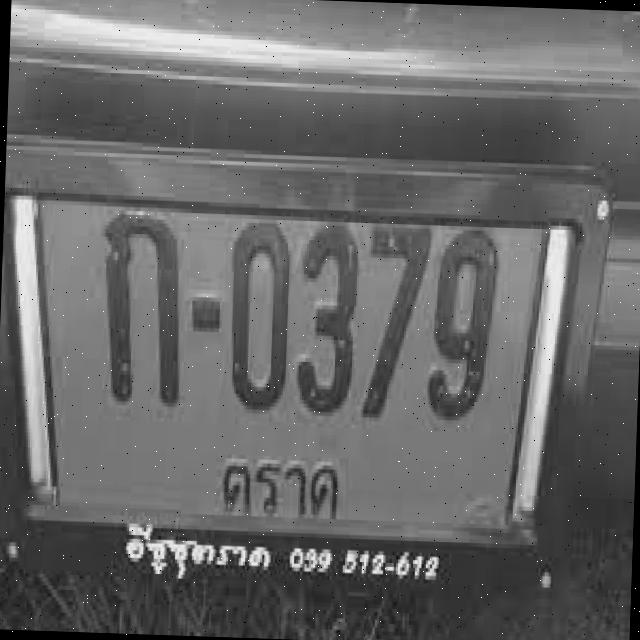0: (220, 215, 298, 420)
10GorGai: (87, 201, 189, 423)
3: (293, 217, 362, 420)
7: (357, 221, 432, 431)
9: (426, 223, 501, 438)
Tak: (215, 448, 346, 530)
